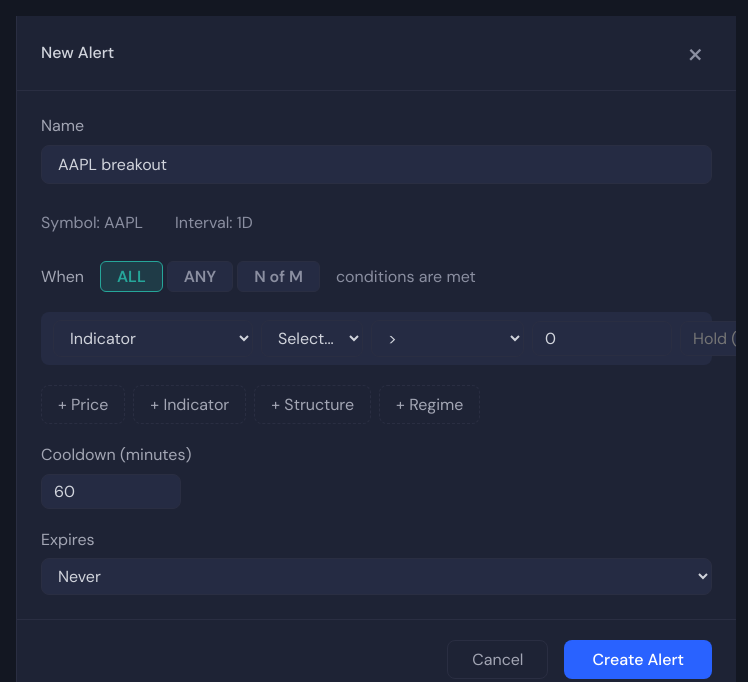
empty indicator selections cannot create an inert rule
The width and height of the screenshot is (748, 682).
Click the button "Create Alert" at (638, 660), box [564, 640, 712, 679]
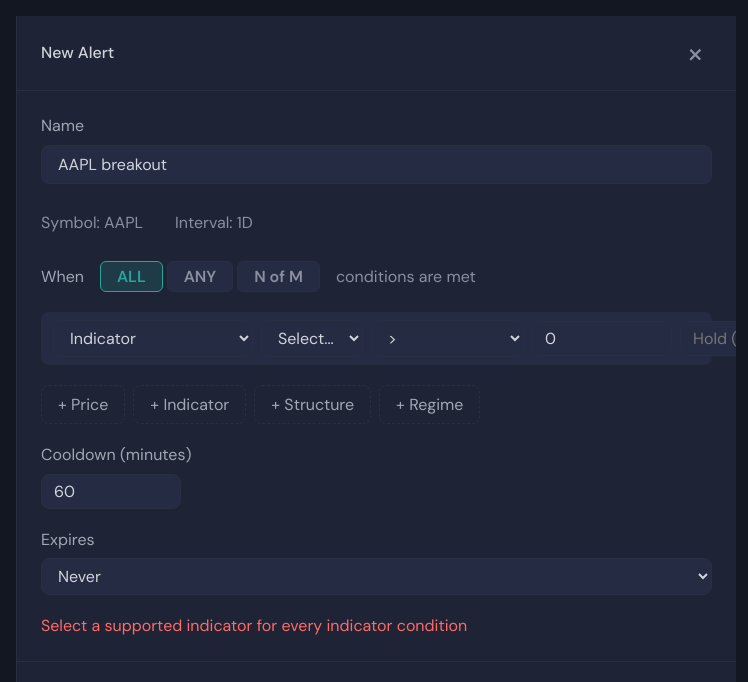
Check: the text "Select a supported indicator for every indicator condition" is shown, box [41, 615, 467, 636]
